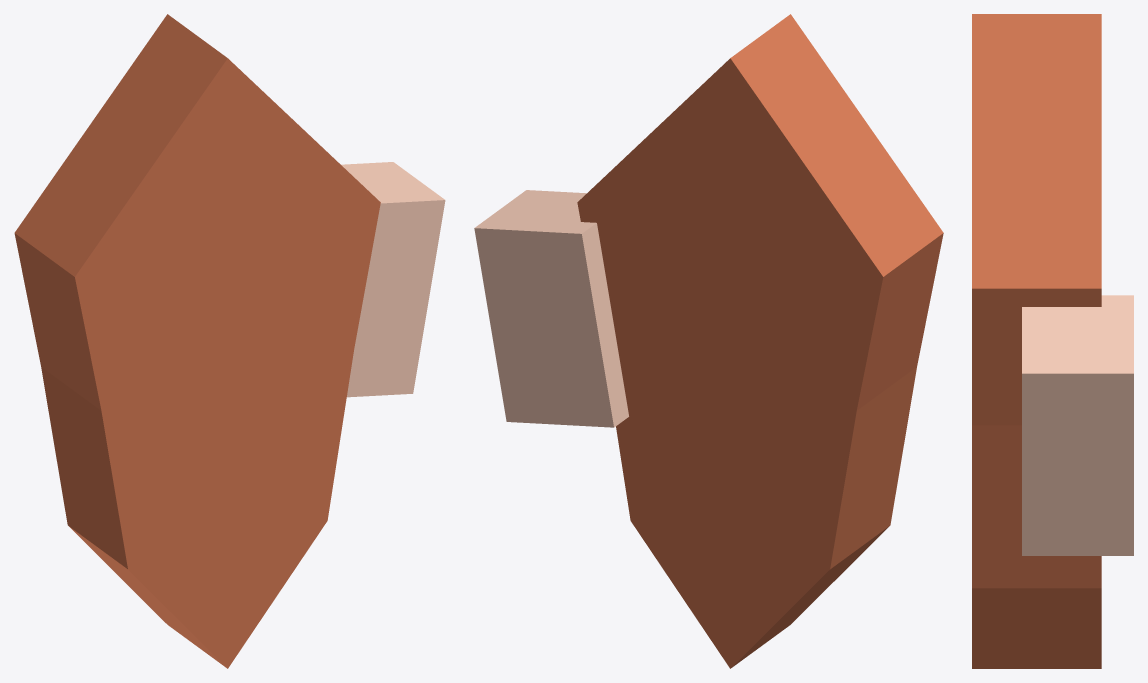
Rendered from flyer-shape-sensor-dart-v1.glb.
The picture shows the model from 3 angles, left to right: view 1: azimuth 30°, elevation 25°; view 2: azimuth 150°, elevation 25°; view 3: azimuth 270°, elevation 25°; orthographic projection. The views are drawn at different scales.
Visible parts, largest first — view 1: Sensor Dart; view 2: Sensor Dart; view 3: Sensor Dart.
Part boxes in pixels (x1,y1,x2,y2): Sensor Dart: [14, 14, 445, 668]; Sensor Dart: [474, 14, 943, 668]; Sensor Dart: [972, 14, 1133, 668].
Size of the model in its own units: 1.66 by 2.46 by 0.55.
